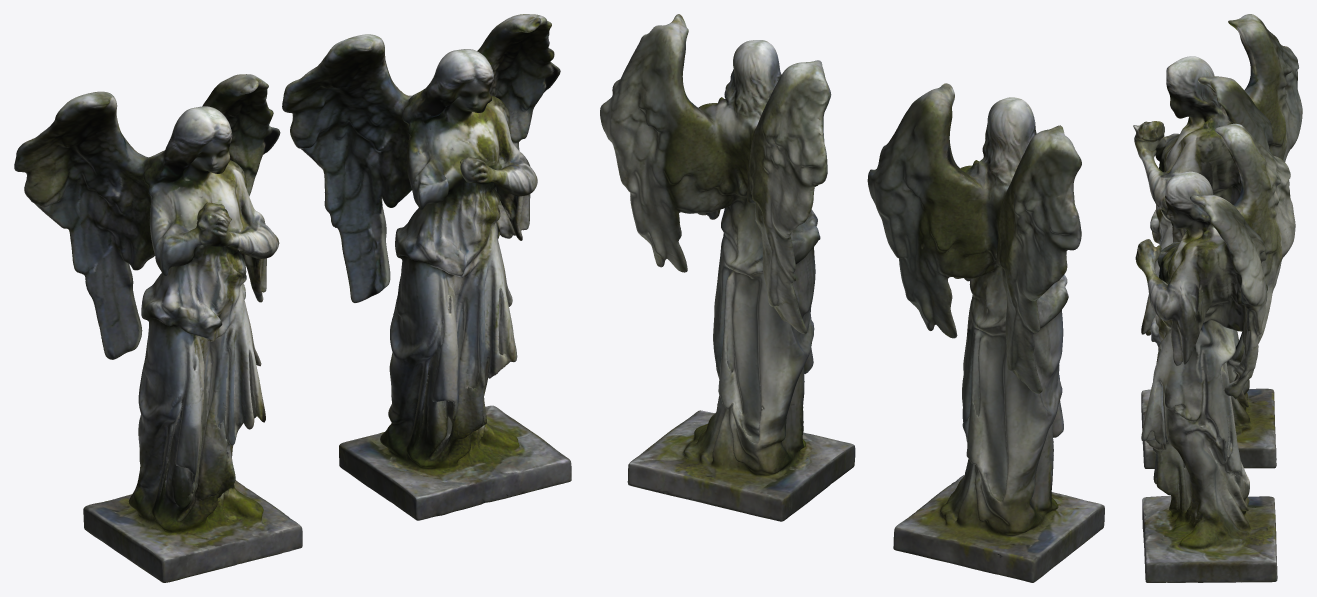
The model's file is Cemetery_Angels_1214074648_texture.fbx.
3 renders of one model, left to right at view 1: azimuth 30°, elevation 25°; view 2: azimuth 150°, elevation 25°; view 3: azimuth 270°, elevation 25°, orthographic. The views are drawn at different scales.
Parts seen in each view (by area): view 1: Mesh1_Mesh1.196; view 2: Mesh1_Mesh1.196; view 3: Mesh1_Mesh1.196.
Boxes of the visible parts, x1=… form: Mesh1_Mesh1.196: x1=14, y1=14, x2=571, y2=582; Mesh1_Mesh1.196: x1=600, y1=14, x2=1104, y2=582; Mesh1_Mesh1.196: x1=1133, y1=14, x2=1302, y2=582.
Bounding box in the file's own units: 200 × 166 × 65.5.
1 material, 1 textured.
